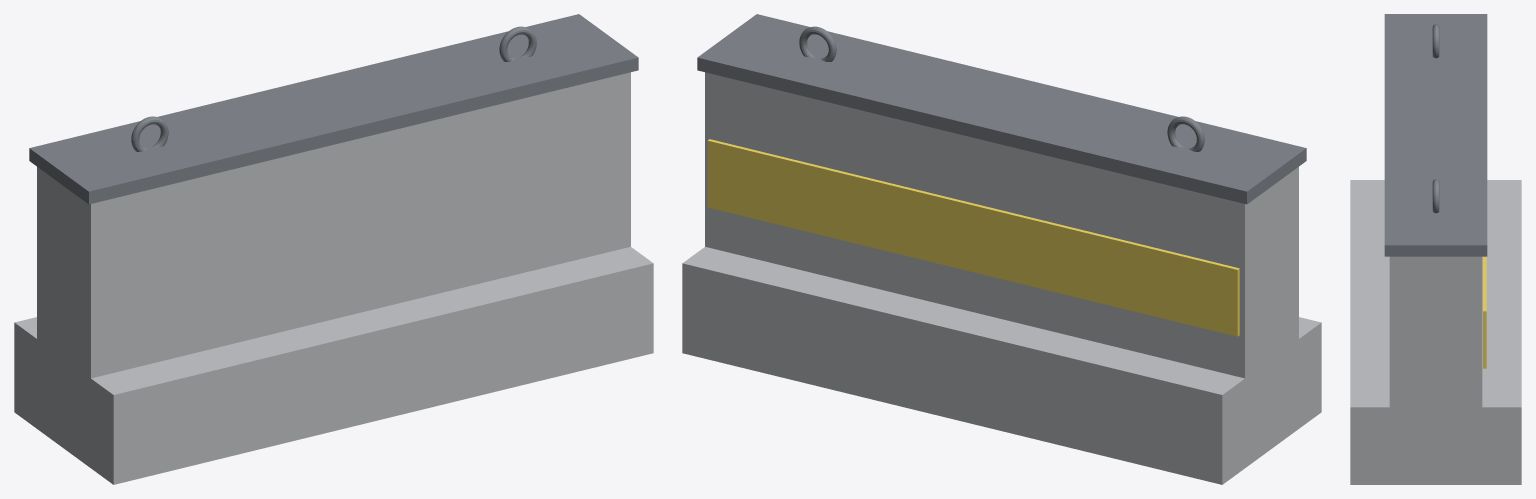
The model's file is Warehouse_Security_Barrier.fbx.
The picture shows the model from 3 angles, left to right: view 1: azimuth 30°, elevation 25°; view 2: azimuth 150°, elevation 25°; view 3: azimuth 270°, elevation 25°; orthographic projection. The views are drawn at different scales.
Parts seen in each view (by area): view 1: Barrier_Wall, Barrier_Base, Barrier_Cap_Rail, Lifting_Eyelet_-0.75, Lifting_Eyelet_0.75; view 2: Barrier_Base, Barrier_Wall, Barrier_Cap_Rail, Barrier_Stripe_Plate, Lifting_Eyelet_-0.75, Lifting_Eyelet_0.75; view 3: Barrier_Base, Barrier_Cap_Rail, Barrier_Wall, Barrier_Stripe_Plate, Lifting_Eyelet_-0.75, Lifting_Eyelet_0.75.
Boxes of the visible parts, bbox=[...] form: Barrier_Wall: bbox=[37, 72, 630, 378]; Barrier_Base: bbox=[14, 247, 653, 484]; Barrier_Cap_Rail: bbox=[29, 14, 638, 204]; Lifting_Eyelet_-0.75: bbox=[131, 116, 168, 151]; Lifting_Eyelet_0.75: bbox=[499, 26, 536, 61]; Barrier_Base: bbox=[682, 247, 1321, 484]; Barrier_Wall: bbox=[705, 72, 1298, 379]; Barrier_Cap_Rail: bbox=[697, 14, 1306, 204]; Barrier_Stripe_Plate: bbox=[707, 139, 1239, 336]; Lifting_Eyelet_-0.75: bbox=[1167, 116, 1204, 151]; Lifting_Eyelet_0.75: bbox=[799, 26, 836, 61]; Barrier_Base: bbox=[1350, 180, 1521, 484]; Barrier_Cap_Rail: bbox=[1384, 14, 1487, 256]; Barrier_Wall: bbox=[1389, 256, 1482, 408]; Barrier_Stripe_Plate: bbox=[1483, 256, 1486, 368]; Lifting_Eyelet_-0.75: bbox=[1432, 24, 1439, 58]; Lifting_Eyelet_0.75: bbox=[1432, 179, 1439, 213].
Bounding box in the file's own units: 2.24 × 1.21 × 0.7.
